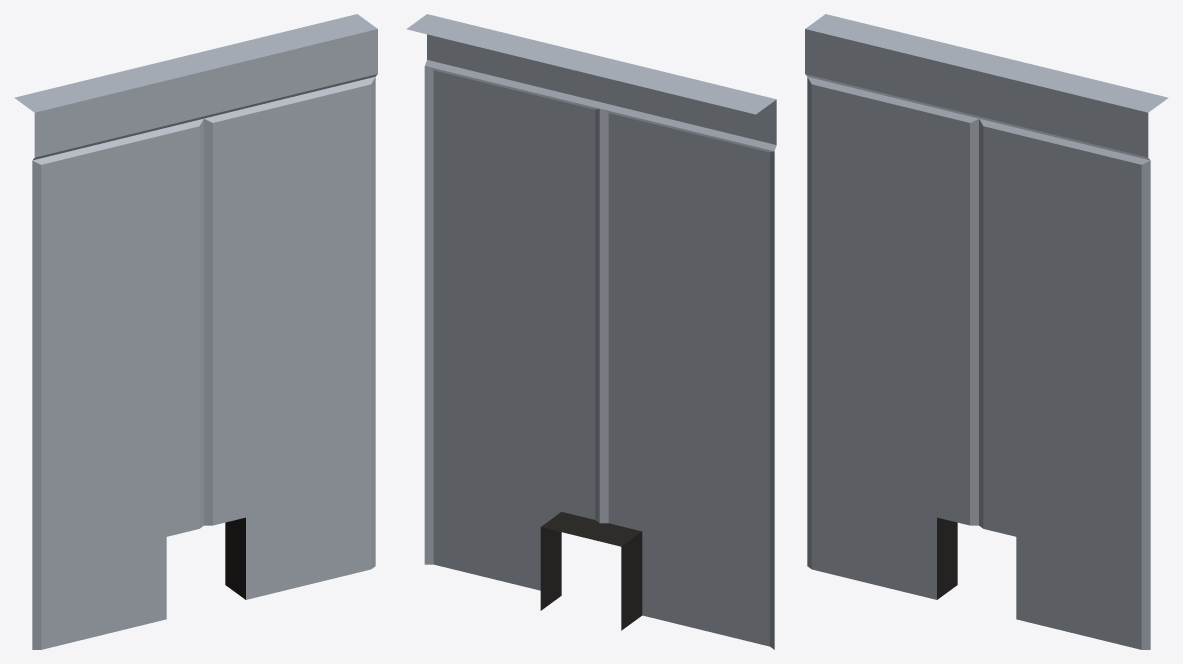
The model's file is Freezer_RatHole.fbx.
The picture shows the model from 3 angles, left to right: view 1: azimuth 30°, elevation 25°; view 2: azimuth 150°, elevation 25°; view 3: azimuth 330°, elevation 25°; orthographic projection.
Parts seen in each view (by area): view 1: MouseholeFreezer; view 2: MouseholeFreezer; view 3: MouseholeFreezer.
Boxes of the visible parts, box(x1,y1,x2,y2) form: MouseholeFreezer: box(14, 14, 377, 649); MouseholeFreezer: box(406, 14, 776, 649); MouseholeFreezer: box(805, 14, 1168, 649).
Bounding box in the file's own units: 200 × 300 × 20.67.
